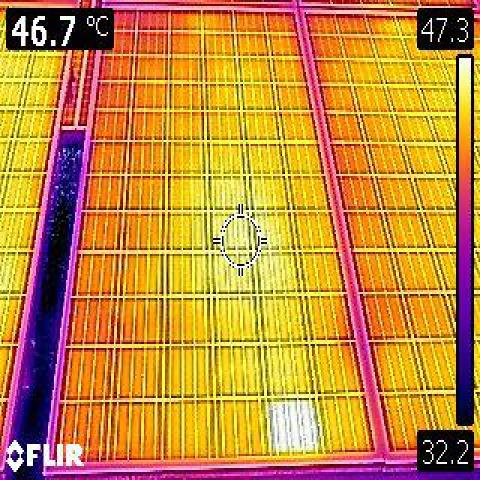fault: (268, 398, 321, 453)
